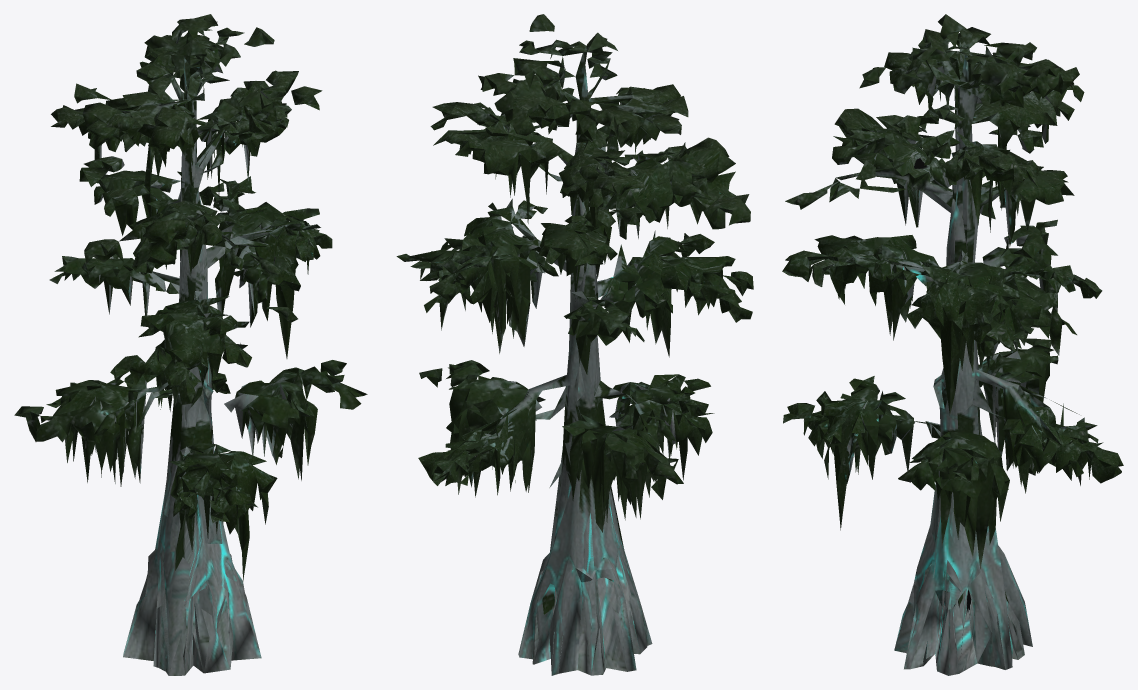
Rendered from cypress-meshy.glb.
3 views of the same model, side by side, from view 1: azimuth 30°, elevation 25°; view 2: azimuth 150°, elevation 25°; view 3: azimuth 270°, elevation 25° (orthographic). The views are drawn at different scales.
Parts seen in each view (by area): view 1: output_unwrapped; view 2: output_unwrapped; view 3: output_unwrapped.
Part boxes in pixels (x1,y1,x2,y2): output_unwrapped: (14, 14, 367, 675); output_unwrapped: (396, 14, 753, 675); output_unwrapped: (782, 14, 1123, 675).
Bounding box in the file's own units: 10.13 × 20 × 9.81.
Materials: 1 (1 with a texture image).
